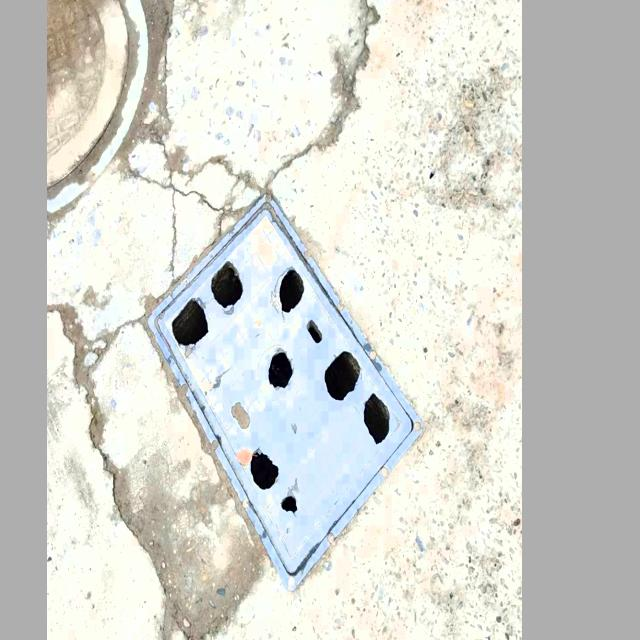broke: (144, 193, 423, 590)
